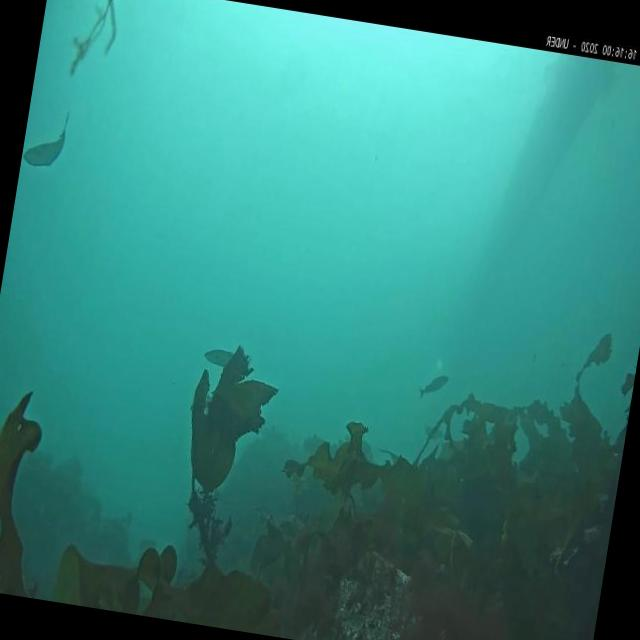fish: (22, 120, 68, 172), (418, 369, 450, 402), (201, 346, 237, 374)
